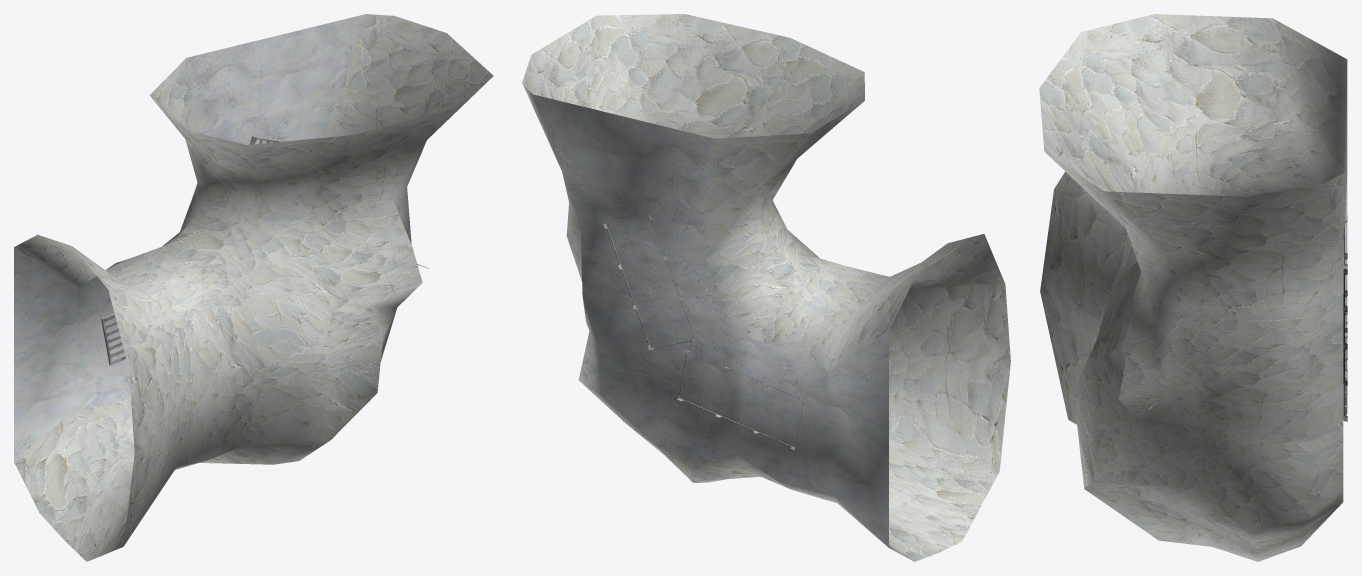
Rendered from rv_mod_tem_natural_corner.obj.
The picture shows the model from 3 angles, left to right: view 1: azimuth 30°, elevation 25°; view 2: azimuth 150°, elevation 25°; view 3: azimuth 270°, elevation 25°; orthographic projection. The views are drawn at different scales.
Parts seen in each view (by area): view 1: rv_mod_tem_natural_corner; view 2: rv_mod_tem_natural_corner; view 3: rv_mod_tem_natural_corner.
Part boxes in pixels (bbox=[...]): rv_mod_tem_natural_corner: bbox=[14, 14, 493, 561]; rv_mod_tem_natural_corner: bbox=[522, 14, 1010, 561]; rv_mod_tem_natural_corner: bbox=[1039, 14, 1347, 561].
Size of the model in its own units: 13.32 by 13.24 by 7.1.
Materials: 5 (5 with a texture image).
